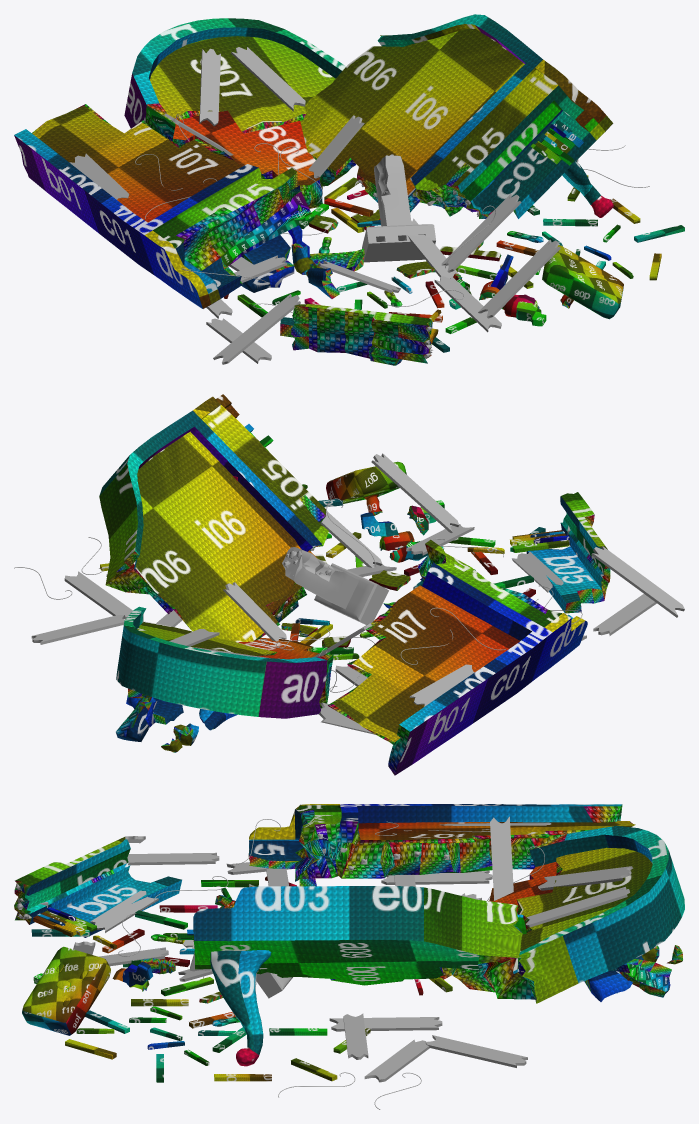
File: Broken_piano_model.fbx
The picture shows the model from 3 angles, top to bottom: view 1: azimuth 30°, elevation 25°; view 2: azimuth 150°, elevation 25°; view 3: azimuth 270°, elevation 25°; orthographic projection. The views are drawn at different scales.
Parts seen in each view (by area): view 1: polySurface55, polySurface30, polySurface14, polySurface12, polySurface29, polySurface31, polySurface54, Piano_White_Keys, polySurface86, polySurface27, Piano_Black_Keys, pCube92 (+18 smaller); view 2: polySurface30, polySurface55, polySurface14, polySurface12, polySurface29, polySurface54, polySurface86, Piano_White_Keys, polySurface27, pCube92, pCube102, polySurface31 (+13 smaller); view 3: polySurface14, polySurface55, polySurface12, polySurface54, Piano_White_Keys, polySurface31, polySurface27, polySurface29, Elephant_Piano_Leg2, Piano_Black_Keys, pCube108, pCube96 (+14 smaller).
Part boxes in pixels (x1,y1,x2,y2): polySurface55: (14,129,314,308); polySurface30: (300,28,524,197); polySurface14: (357,14,613,218); polySurface12: (124,18,355,208); polySurface29: (32,104,241,222); polySurface31: (150,36,335,133); polySurface54: (280,304,438,365); Piano_White_Keys: (237,175,684,352); polySurface86: (362,155,435,262); polySurface27: (542,245,623,319); Piano_Black_Keys: (224,190,633,321); pCube92: (478,239,560,318); polySurface30: (134,431,317,642); polySurface55: (388,539,587,775); polySurface14: (99,394,328,622); polySurface12: (116,606,333,718); polySurface29: (328,585,519,745); polySurface54: (510,492,610,613); polySurface86: (282,547,388,624); Piano_White_Keys: (100,476,545,654); polySurface27: (326,461,406,515); pCube92: (371,453,459,532); pCube102: (591,546,684,617); polySurface31: (137,621,277,656); polySurface14: (193,886,522,985); polySurface55: (248,804,622,886); polySurface12: (440,825,684,1003); polySurface54: (14,837,181,937); Piano_White_Keys: (31,880,452,1082); polySurface31: (513,847,652,973); polySurface27: (22,946,110,1035); polySurface29: (358,821,635,843); Elephant_Piano_Leg2: (210,950,271,1066); Piano_Black_Keys: (76,876,423,1065); pCube108: (490,816,513,900); pCube96: (425,1035,527,1067).
Size of the model in its own units: 3.71 by 1.21 by 3.89.
